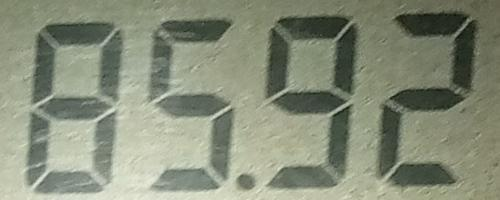.: (236, 173, 257, 192)
